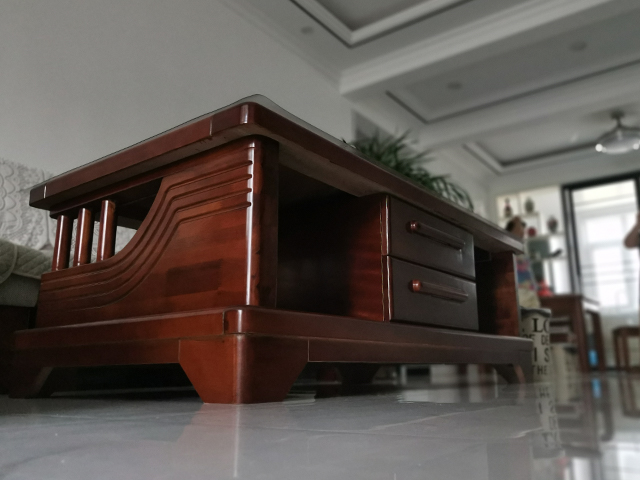table: (1, 91, 536, 407), (540, 291, 609, 374), (610, 324, 640, 373)
trashcan: (517, 305, 555, 384)
